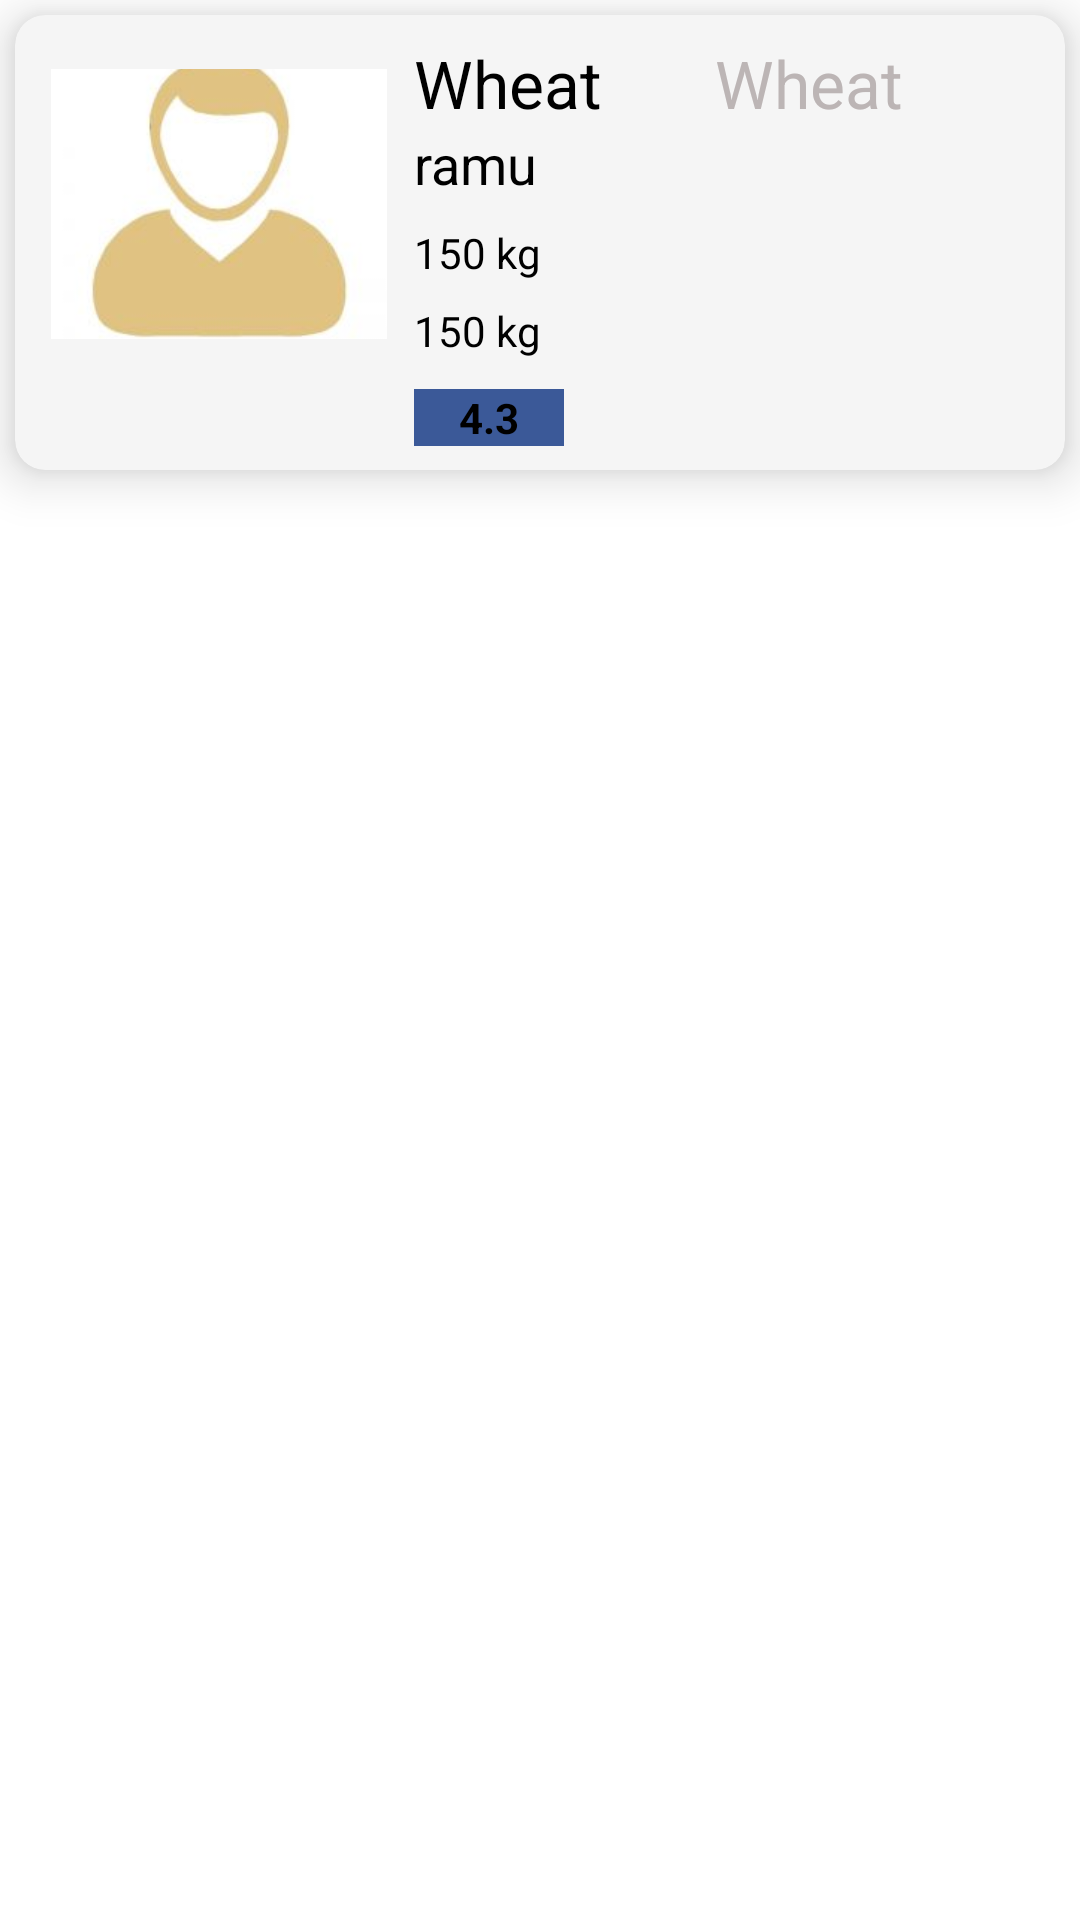

Screen size 1080*1920. Icon name, then its box in pixels as detection(x1, y1, x2, y2):
user: detection(92, 69, 347, 337)
